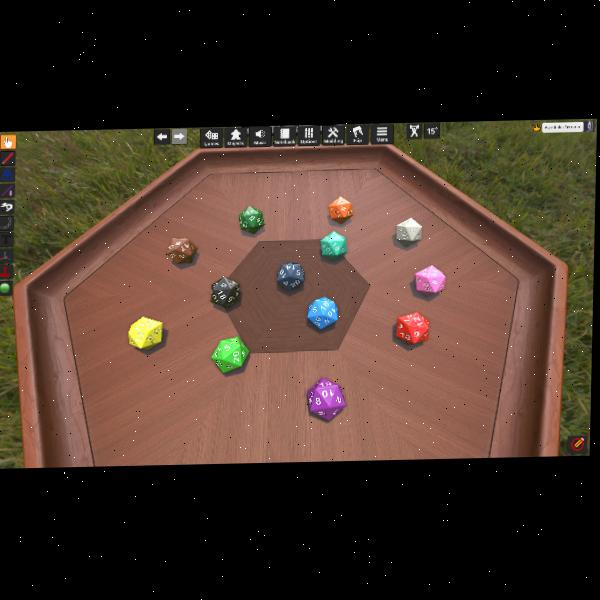d20: (306, 377, 346, 420), (212, 335, 250, 372), (128, 316, 163, 349), (395, 311, 428, 344), (414, 264, 445, 295), (307, 296, 337, 328), (210, 277, 239, 309), (167, 235, 198, 264), (277, 261, 305, 290), (320, 231, 347, 260), (238, 205, 264, 234), (327, 195, 351, 224), (398, 217, 423, 243)
